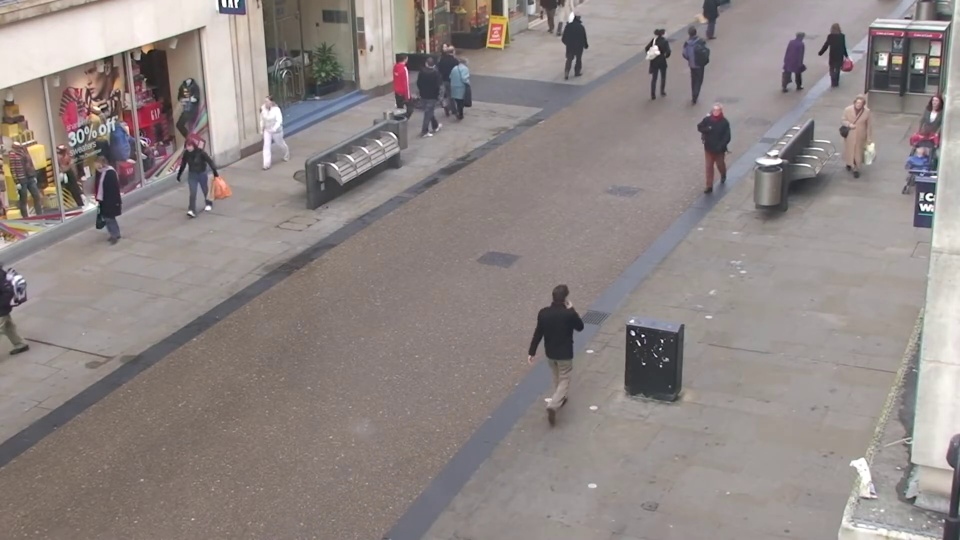pedestrian: (549, 266, 592, 403), (890, 145, 938, 251), (76, 156, 124, 260), (906, 94, 951, 189), (167, 138, 208, 237), (836, 93, 875, 185), (248, 90, 282, 177), (696, 99, 727, 191), (817, 20, 847, 93), (423, 53, 451, 131), (395, 49, 423, 126), (788, 25, 817, 98), (454, 51, 481, 128), (428, 39, 455, 113), (444, 41, 470, 116), (682, 20, 707, 90), (652, 25, 676, 96), (569, 6, 591, 71)
